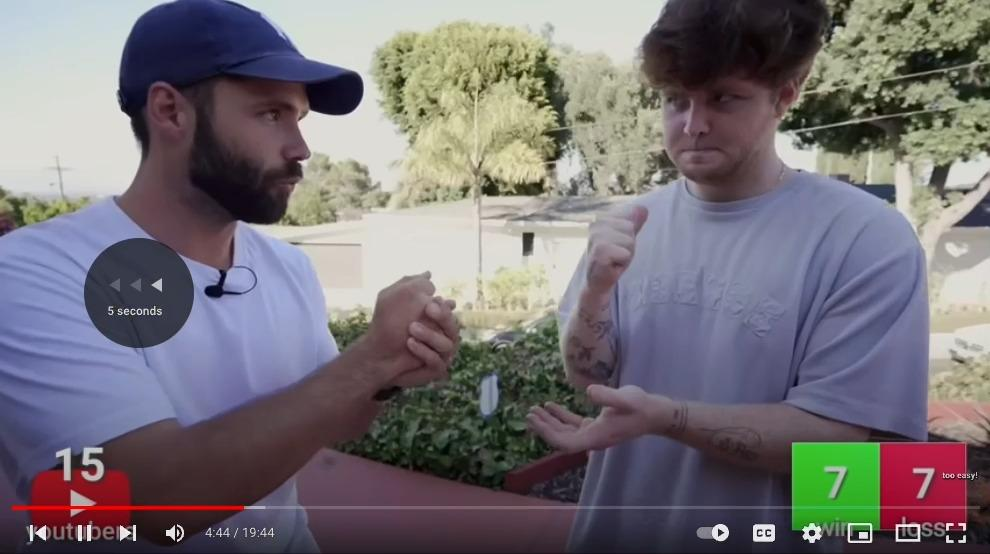Rock: (371, 269, 447, 376), (586, 202, 651, 286)
